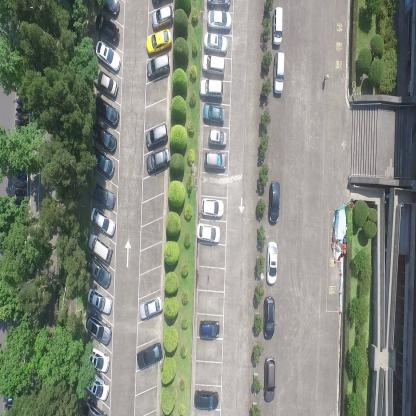car: (84, 253, 112, 290), (93, 39, 121, 73), (84, 312, 112, 346), (89, 146, 115, 180), (91, 122, 118, 154), (87, 233, 113, 266), (88, 206, 115, 237), (92, 68, 118, 100), (94, 11, 119, 44), (136, 340, 163, 370), (83, 372, 110, 402), (89, 182, 115, 212), (94, 97, 119, 128), (146, 51, 170, 82), (85, 287, 112, 314), (84, 346, 110, 373), (146, 146, 170, 175), (203, 30, 229, 56), (146, 28, 171, 54), (139, 294, 163, 321), (198, 76, 223, 101), (152, 2, 174, 30), (267, 180, 280, 226), (263, 358, 276, 404), (206, 8, 233, 30), (194, 387, 219, 410), (146, 122, 168, 148), (263, 296, 275, 342), (202, 54, 226, 77), (196, 222, 221, 244), (271, 6, 284, 48), (273, 51, 285, 96), (203, 103, 225, 126), (203, 150, 227, 171), (266, 241, 277, 285), (201, 198, 225, 218), (81, 398, 107, 416), (199, 318, 220, 338), (94, 0, 120, 16), (208, 128, 228, 148), (206, 0, 231, 12)
